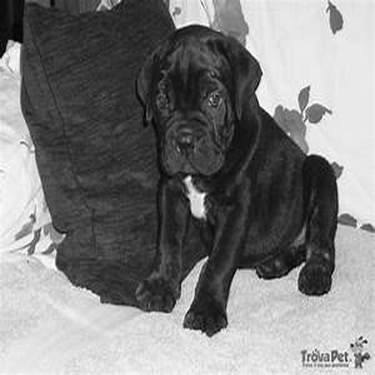dog: (119, 12, 353, 344)
